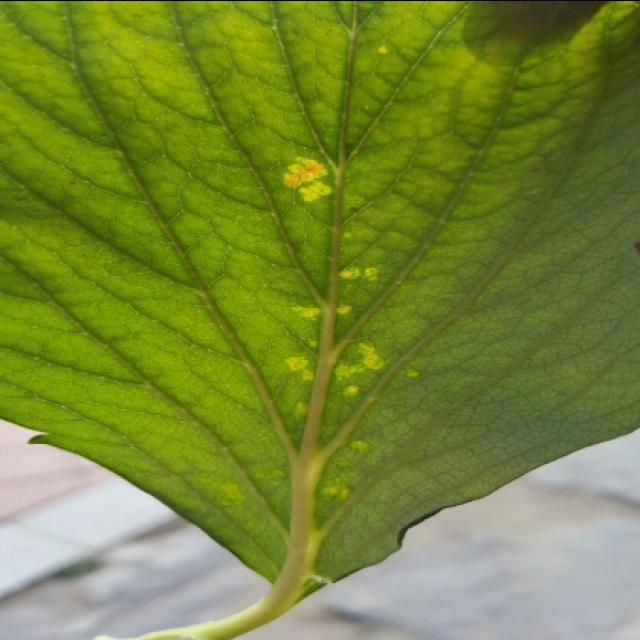Angular Leafspot: (267, 38, 423, 516)
